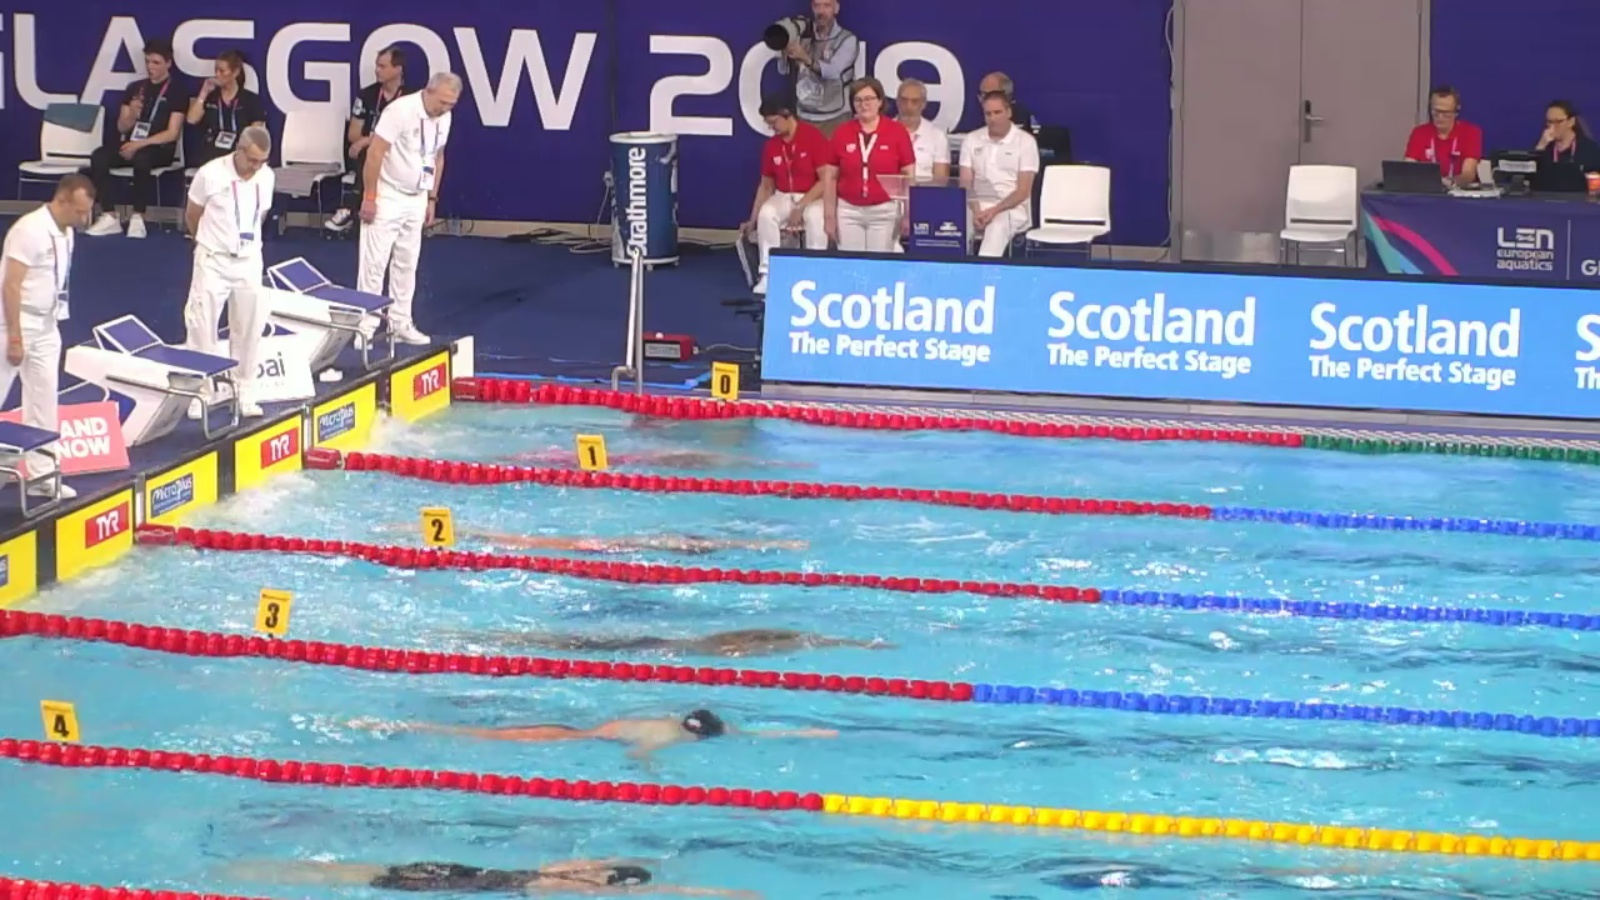swimmerw: (362, 713, 845, 775), (225, 860, 781, 900), (434, 624, 887, 671), (437, 523, 826, 559), (493, 440, 827, 468)
